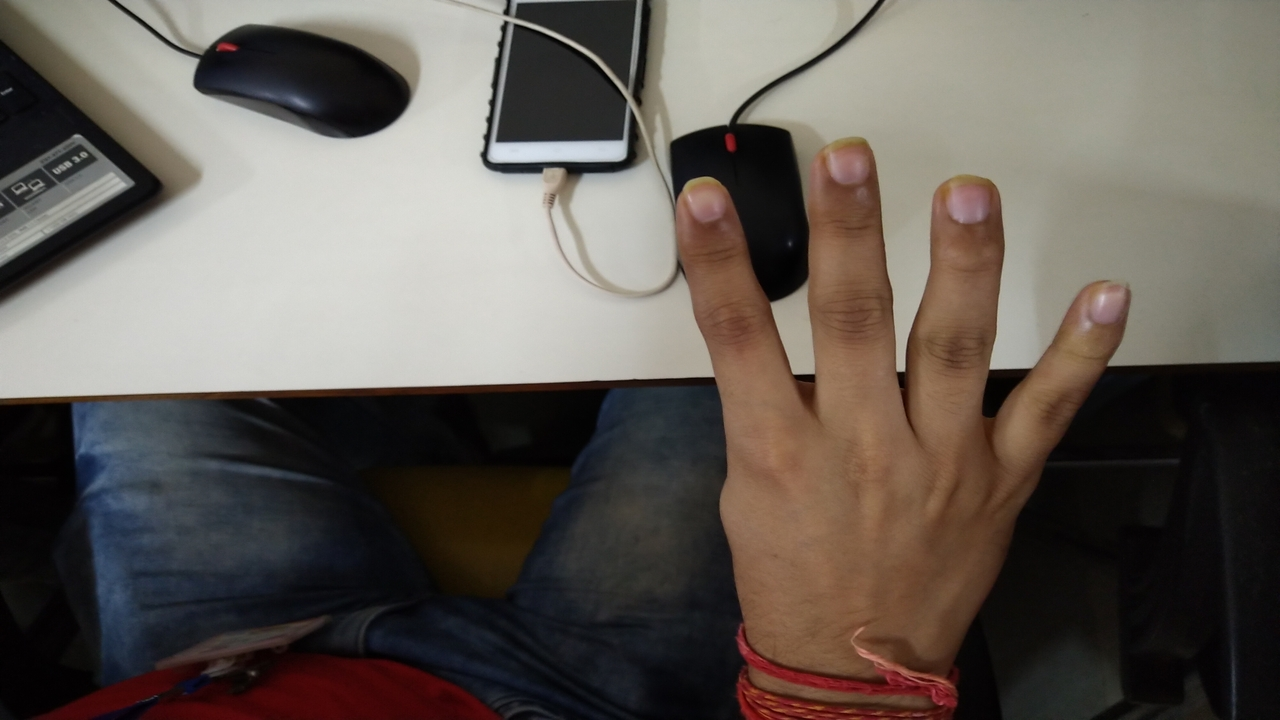fingertip: (930, 172, 1008, 240), (816, 136, 886, 200), (678, 174, 736, 250), (1076, 276, 1142, 334)
